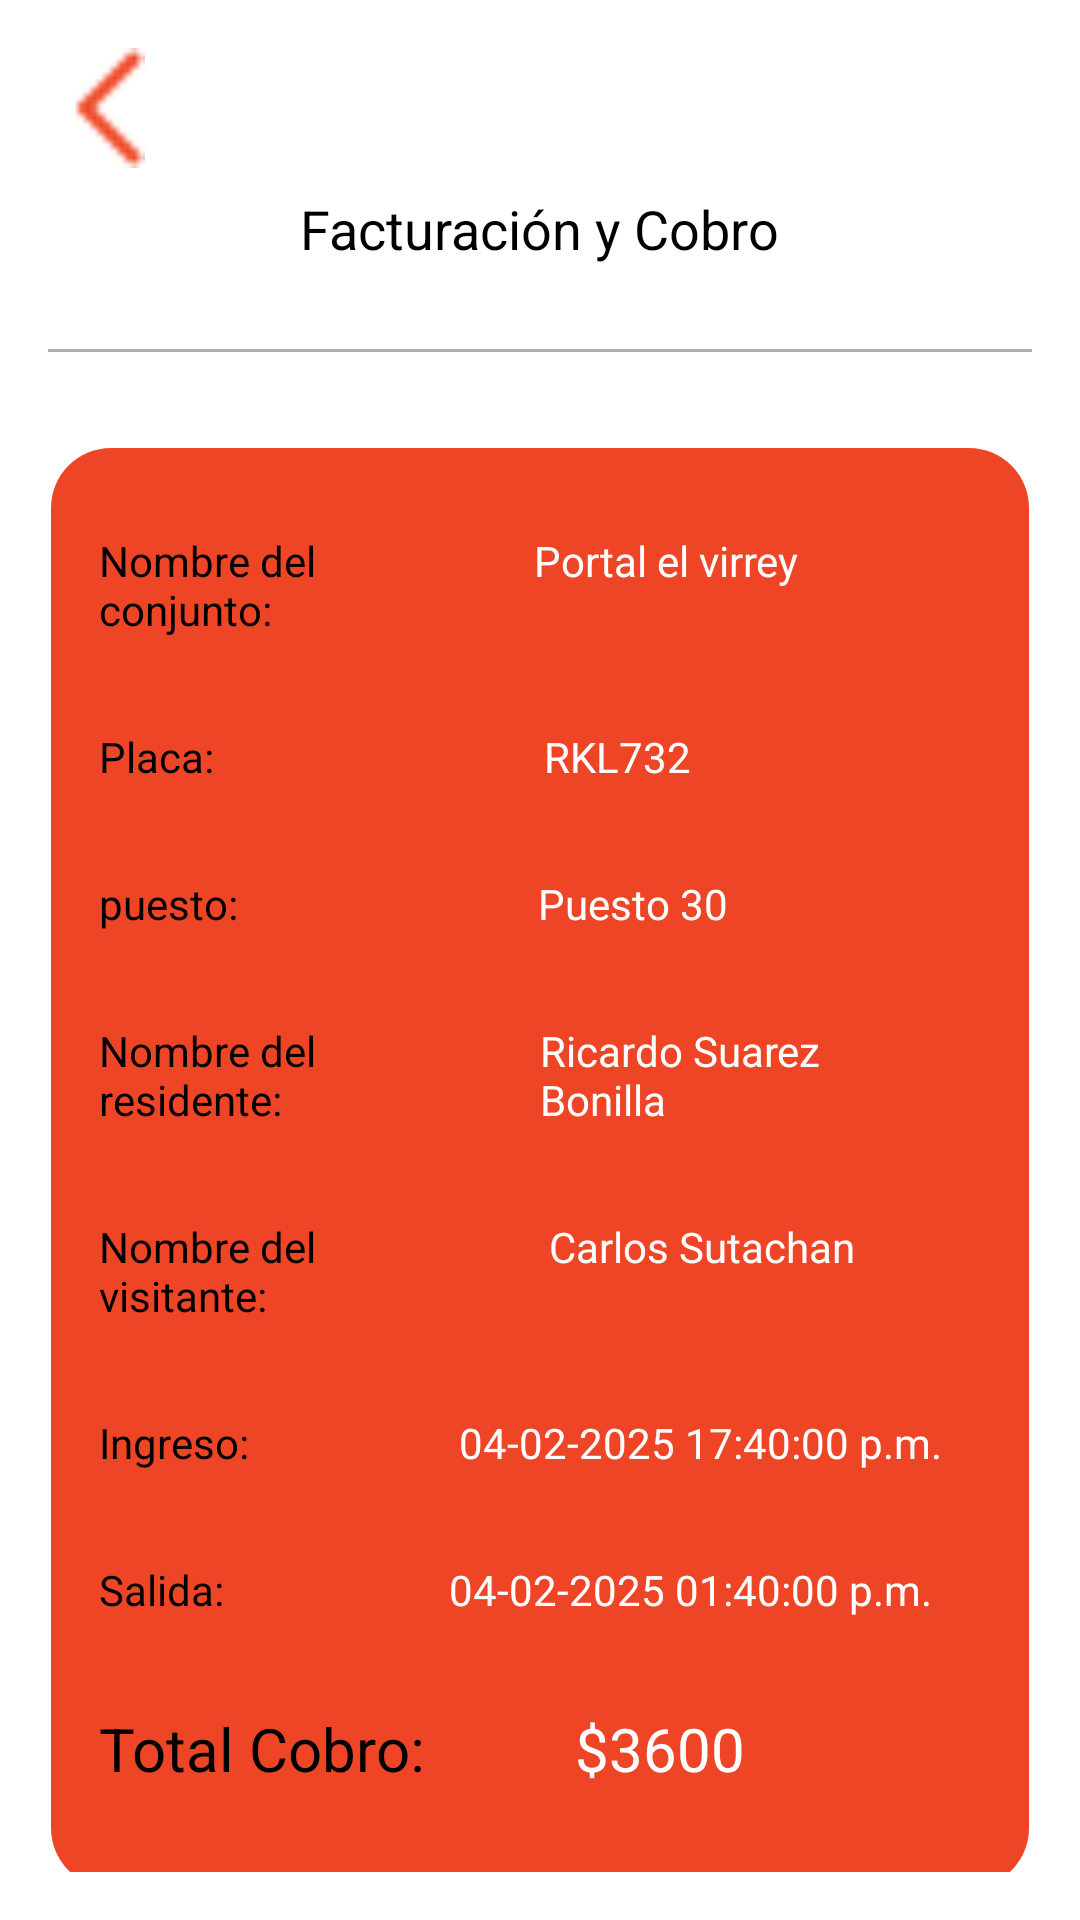

Locate icon controls on the screen. Image size 1080 x 1920, boxes as (x1, y1, x2, y2).
Flecha de retroceso: (76, 48, 145, 168)
